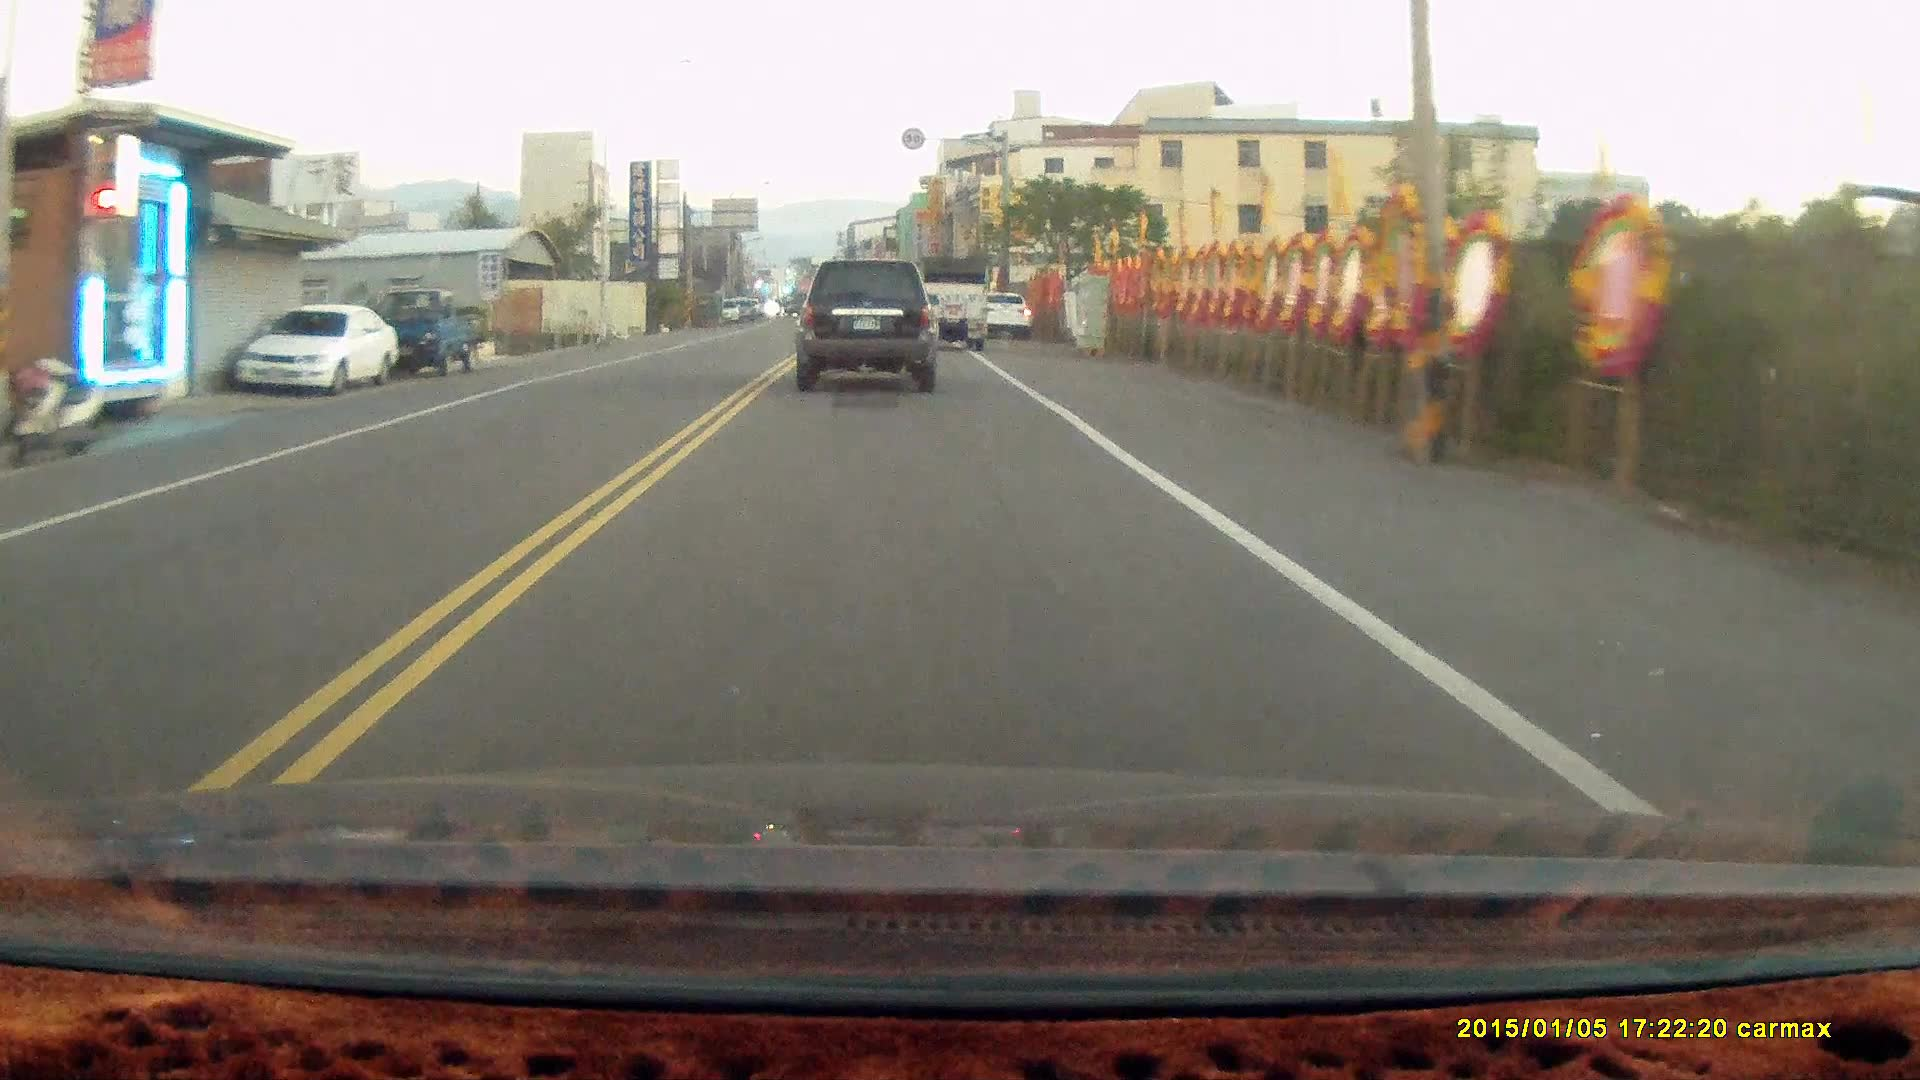vehicle: (800, 255, 945, 389), (239, 302, 401, 396), (373, 289, 487, 381), (918, 252, 994, 349)
